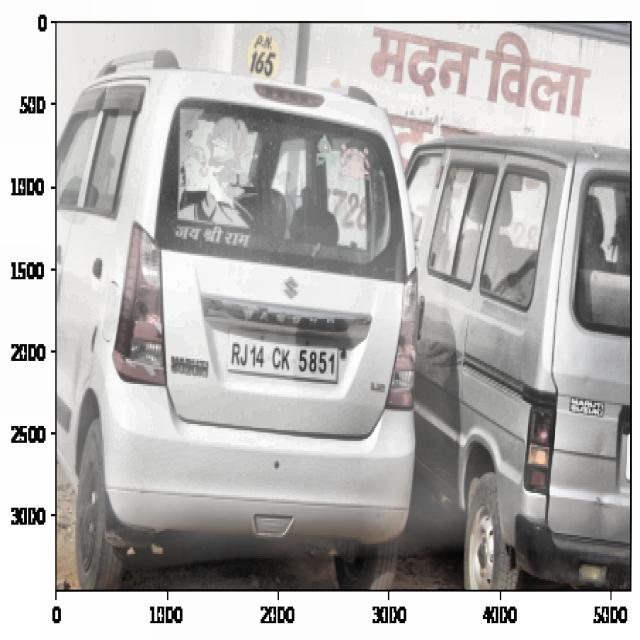license_plate: (225, 339, 339, 382)
